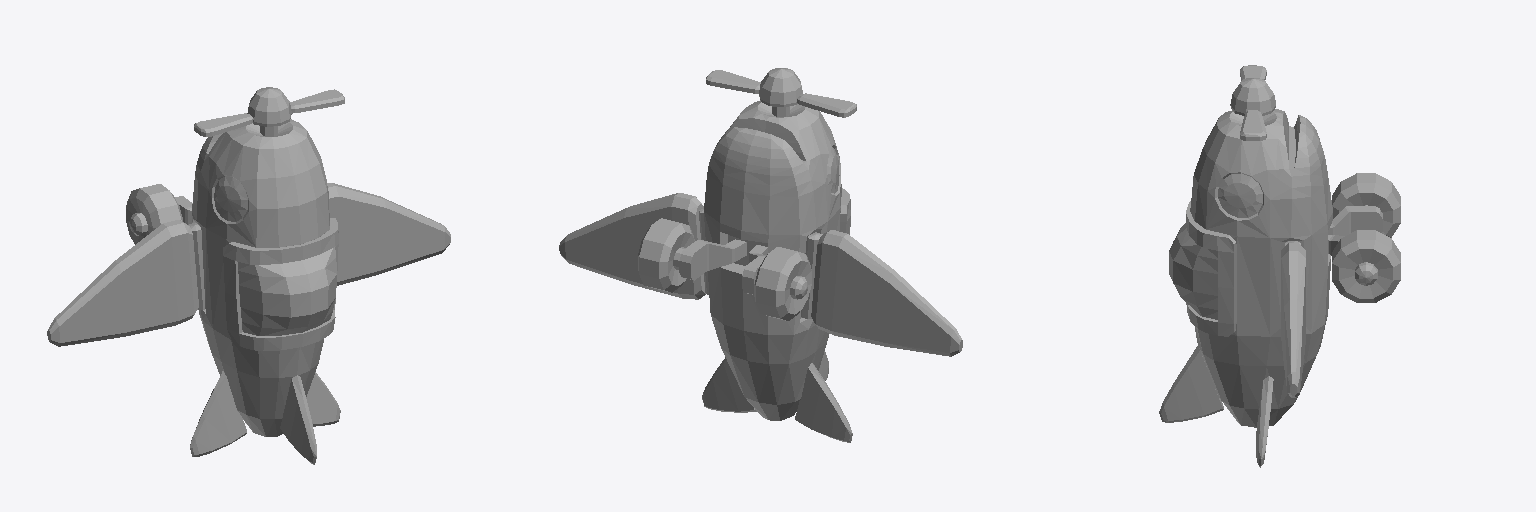
3 views of the same model, side by side, from view 1: azimuth 30°, elevation 25°; view 2: azimuth 150°, elevation 25°; view 3: azimuth 270°, elevation 25° (orthographic).
Parts seen in each view (by area): view 1: Object_planes.jpg; view 2: Object_planes.jpg; view 3: Object_planes.jpg.
Part boxes in pixels (x1,y1,x2,y2): Object_planes.jpg: (47,87,450,464); Object_planes.jpg: (559,68,962,442); Object_planes.jpg: (1159,65,1400,467).
Size of the model in its own units: 2.5 by 2.11 by 1.31.